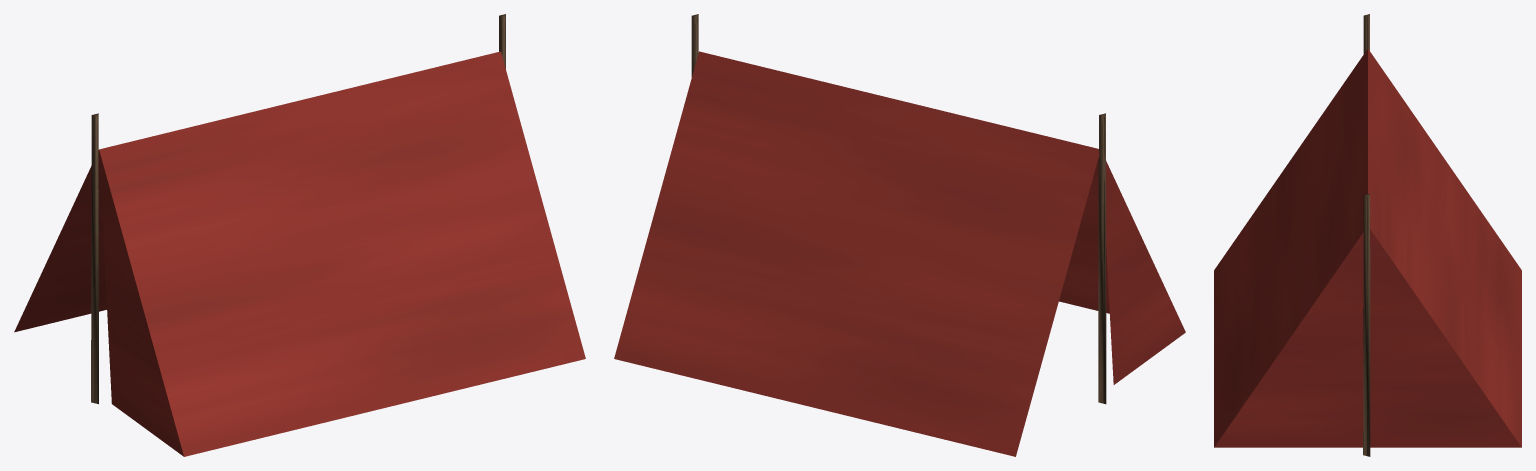
File: Tent_Pilgrim_4_LOD2.gltf
The picture shows the model from 3 angles, left to right: view 1: azimuth 30°, elevation 25°; view 2: azimuth 150°, elevation 25°; view 3: azimuth 270°, elevation 25°; orthographic projection. The views are drawn at different scales.
Visible parts, largest first — view 1: Tent_Pilgrim_4_LOD2; view 2: Tent_Pilgrim_4_LOD2; view 3: Tent_Pilgrim_4_LOD2.
Boxes of the visible parts, bbox=[...] form: Tent_Pilgrim_4_LOD2: bbox=[14, 14, 585, 456]; Tent_Pilgrim_4_LOD2: bbox=[614, 14, 1185, 456]; Tent_Pilgrim_4_LOD2: bbox=[1214, 14, 1521, 456].
Size of the model in its own units: 4.65 by 3.07 by 3.3.
Materials: 2 (2 with a texture image).
